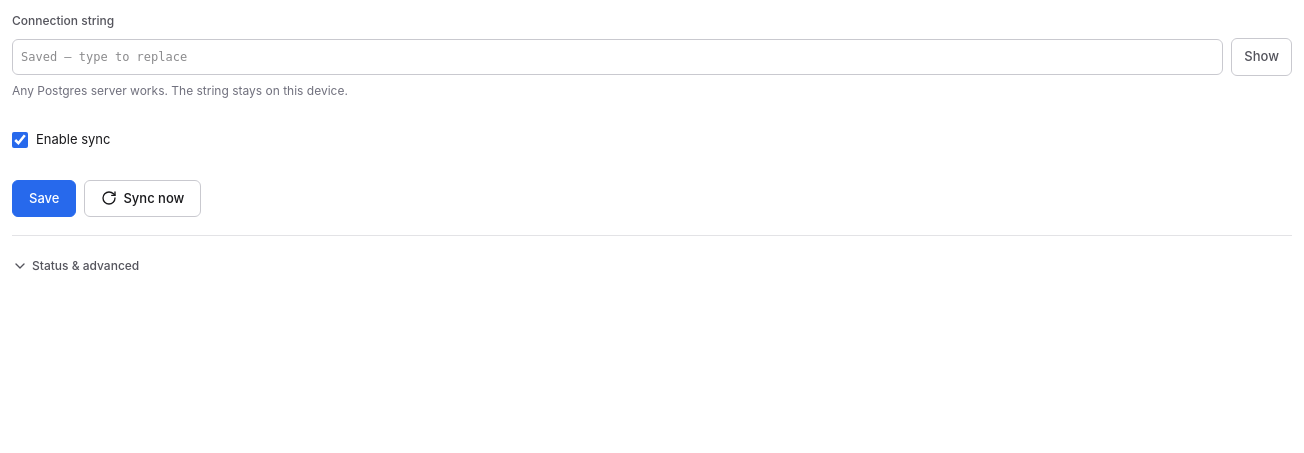
SyncPane › keeps status and re-upload collapsed until asked
The image size is (1304, 453).
What coordinates should you click on to do the following:
click the button with test id "sync-details-toggle"
I would click on:
 (86, 266)
Its box is x1=12 y1=244 x2=1292 y2=288.
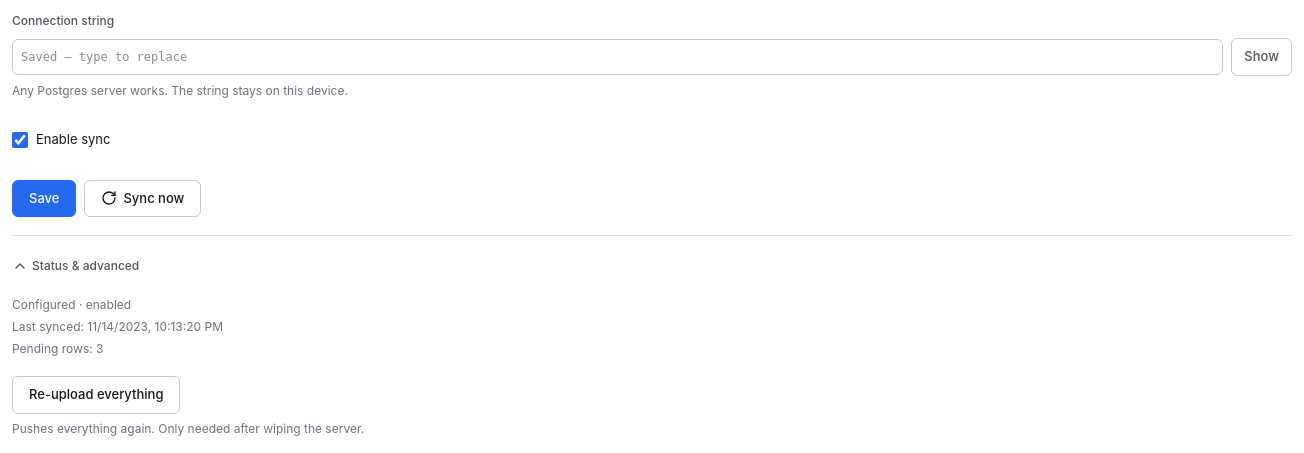
Now the button with test id "sync-details-toggle" is expanded, box x1=12 y1=244 x2=1292 y2=288
Now the element with test id "sync-status" shows "Pending rows: 3", box x1=12 y1=297 x2=223 y2=356
